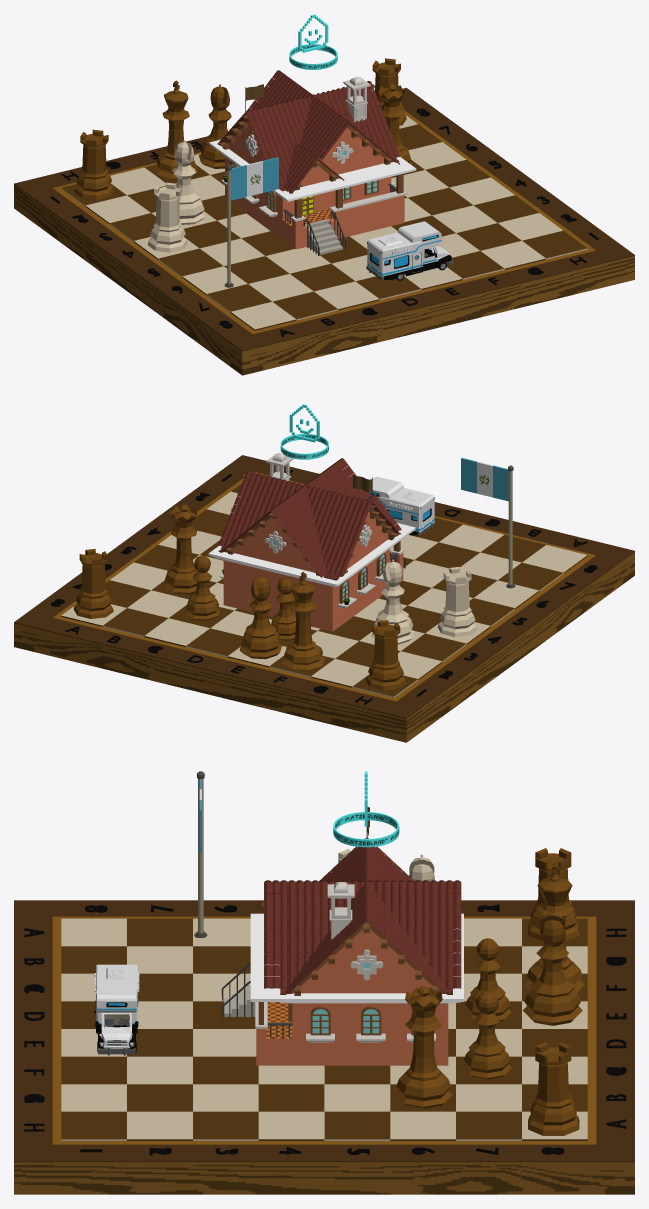
The picture shows the model from 3 angles, top to bottom: view 1: azimuth 30°, elevation 25°; view 2: azimuth 150°, elevation 25°; view 3: azimuth 270°, elevation 25°; orthographic projection. The views are drawn at different scales.
Visible parts, largest first — view 1: Cube.002, Cube.1141, VEHICLES_CAMPER, OBJRANDOM_GUATEMALAN_FLAG, TYPE_PREMIUM; view 2: Cube.002, Cube.1141, VEHICLES_CAMPER, OBJRANDOM_GUATEMALAN_FLAG, TYPE_PREMIUM; view 3: Cube.002, Cube.1141, VEHICLES_CAMPER, TYPE_PREMIUM, OBJRANDOM_GUATEMALAN_FLAG.
Part boxes in pixels (x1=…): Cube.002: x1=14, y1=58, x2=634, y2=375; Cube.1141: x1=209, y1=70, x2=416, y2=255; VEHICLES_CAMPER: x1=366, y1=221, x2=453, y2=280; OBJRANDOM_GUATEMALAN_FLAG: x1=224, y1=157, x2=278, y2=287; TYPE_PREMIUM: x1=289, y1=14, x2=337, y2=69; Cube.002: x1=14, y1=455, x2=634, y2=742; Cube.1141: x1=208, y1=453, x2=415, y2=631; VEHICLES_CAMPER: x1=360, y1=476, x2=435, y2=535; OBJRANDOM_GUATEMALAN_FLAG: x1=461, y1=458, x2=515, y2=588; TYPE_PREMIUM: x1=280, y1=404, x2=328, y2=459; Cube.002: x1=14, y1=848, x2=634, y2=1194; Cube.1141: x1=221, y1=807, x2=463, y2=1065; VEHICLES_CAMPER: x1=94, y1=964, x2=139, y2=1055; TYPE_PREMIUM: x1=333, y1=771, x2=399, y2=847; OBJRANDOM_GUATEMALAN_FLAG: x1=194, y1=771, x2=207, y2=937.
Bounding box in the file's own units: 3981 × 2194 × 4012.
43 materials, 3 textured.
